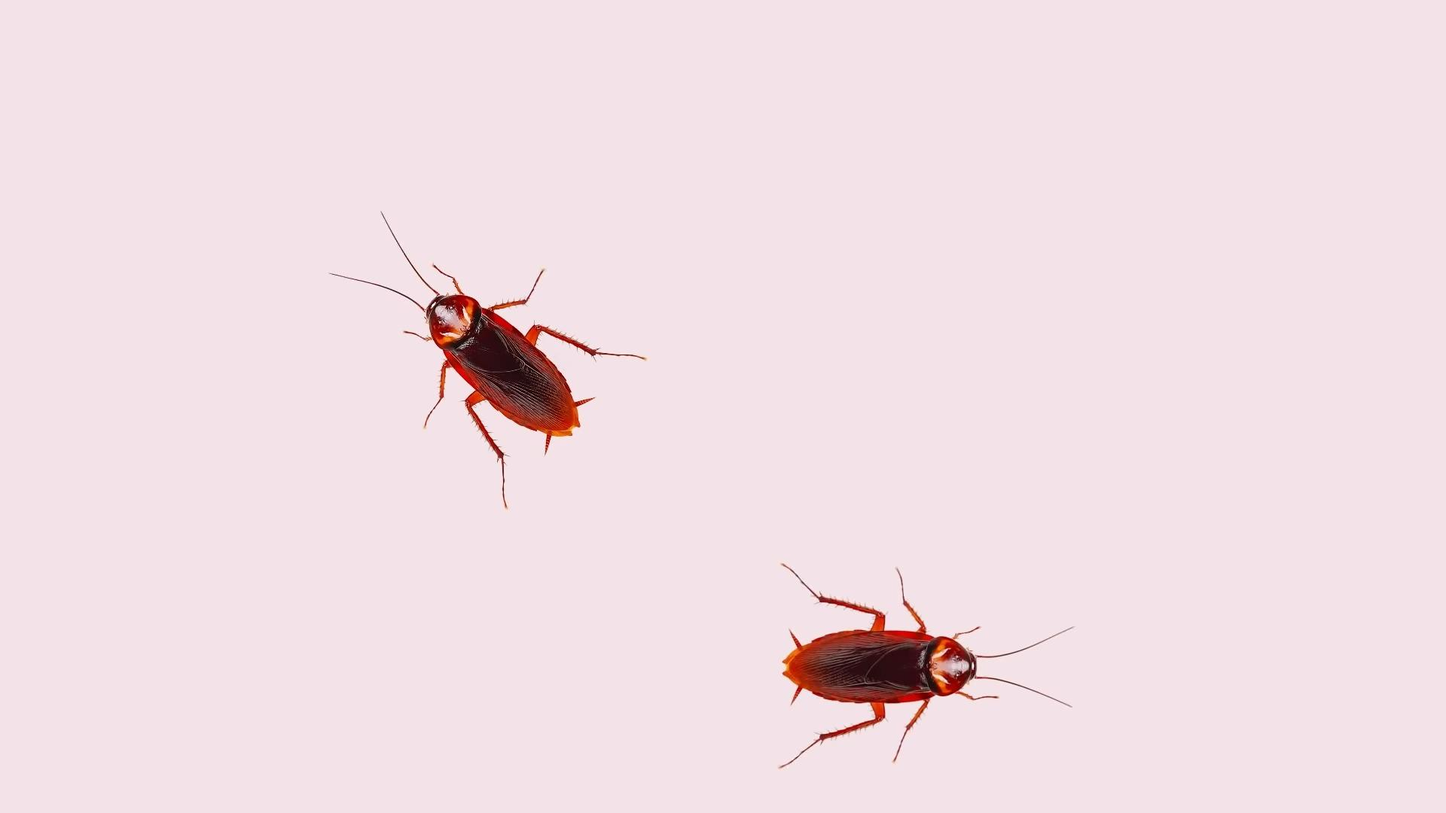cockroach: (325, 200, 647, 519), (751, 528, 1082, 782)
